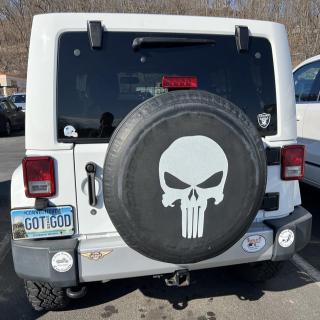license: (12, 206, 75, 242)
